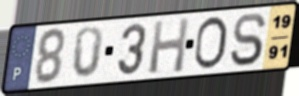0: (71, 25, 106, 81)
3: (114, 22, 148, 77)
8: (33, 26, 68, 87)
H: (147, 15, 191, 76)
O: (191, 15, 229, 72)
S: (228, 11, 268, 68)
